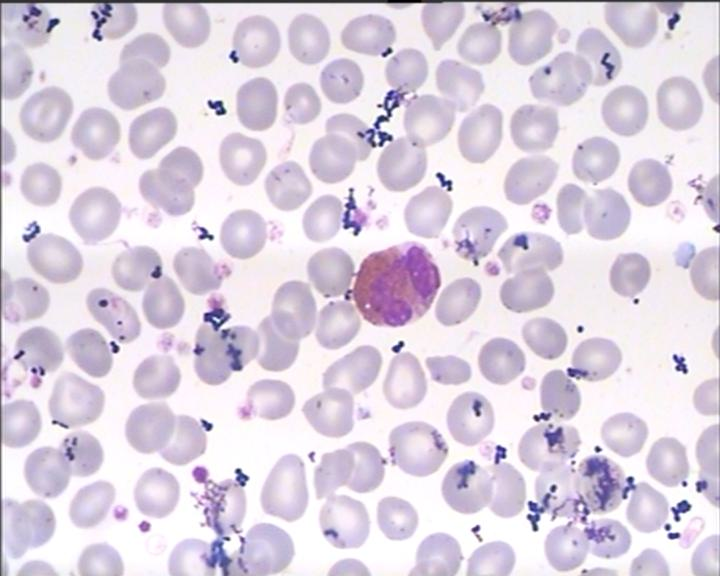eosi: (351, 240, 441, 329)
